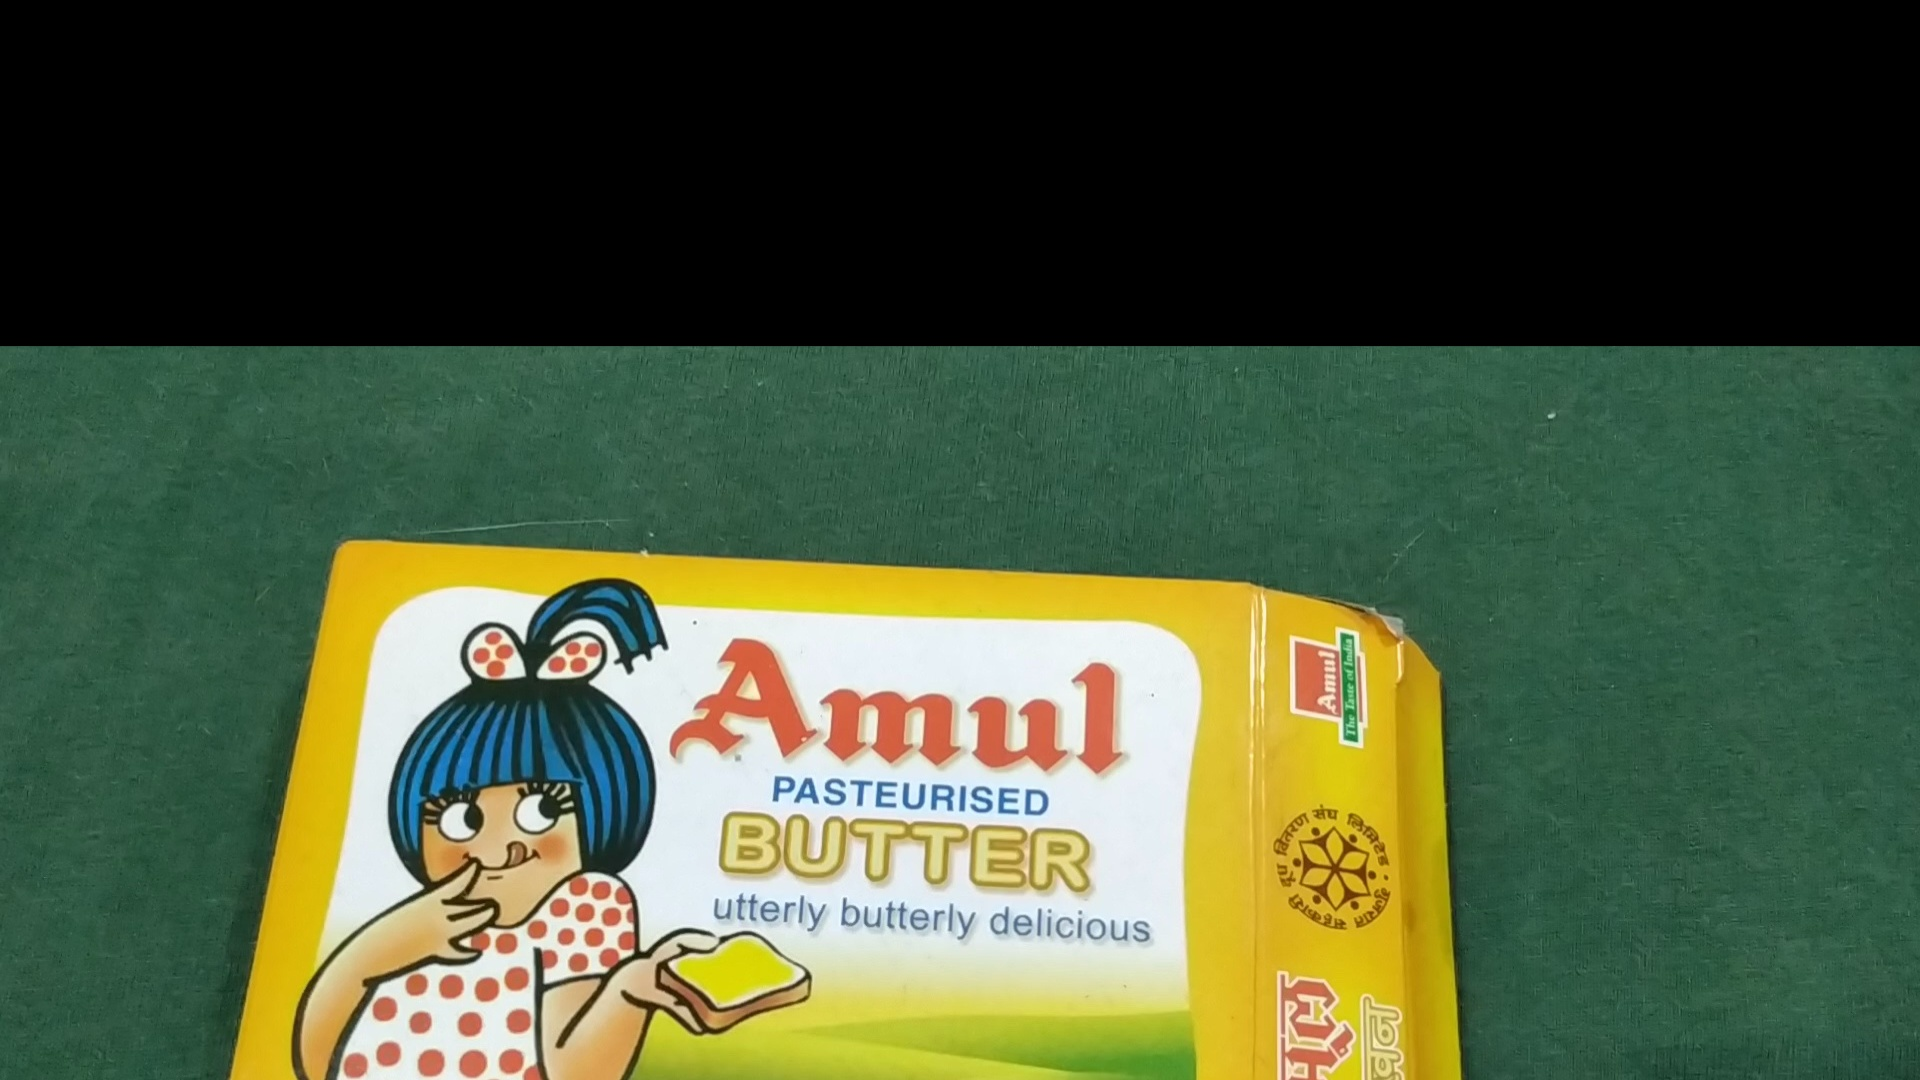amul_butter: (210, 541, 1457, 1080)
